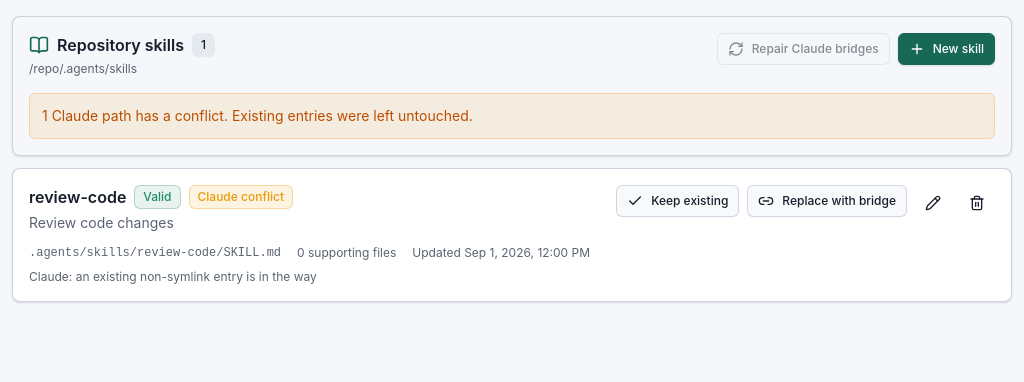
Test: can replace a conflict with a backed-up Claude bridge
Click the button "Replace with bridge". click: click(827, 201)
box: [747,185,907,217]
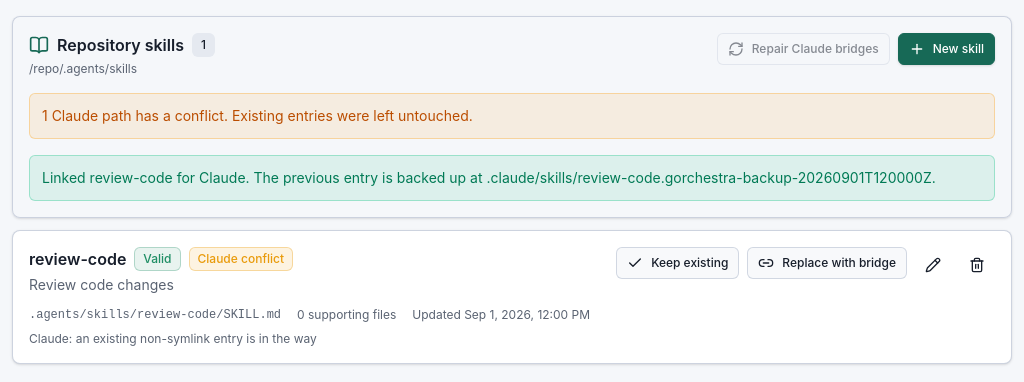
Check: the text "previous entry is backed up at" shows ".claude/skills/review-code.gorchestra-backup-20260901T120000Z", box [42,169,936,186]
